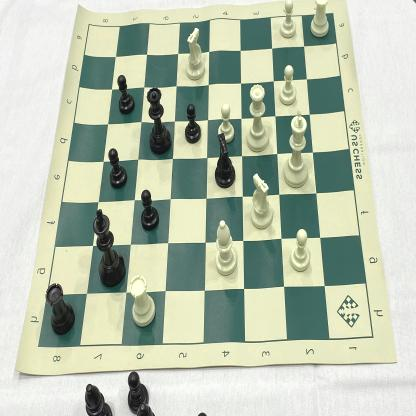black-king: (92, 207, 126, 292)
black-knight: (214, 132, 238, 188)
black-pawn: (139, 188, 161, 232), (107, 147, 129, 190), (183, 102, 204, 145), (116, 73, 135, 116)
black-queen: (146, 88, 172, 157)
black-rook: (46, 281, 77, 337)
white-bishop: (214, 219, 239, 278)
white-king: (282, 108, 312, 189)
white-knight: (249, 171, 274, 231)
white-pawn: (289, 227, 312, 274), (278, 63, 298, 106), (278, 0, 298, 41), (217, 102, 236, 144)
white-queen: (245, 81, 272, 154)
white-rook: (128, 270, 157, 330), (308, 0, 332, 40)
